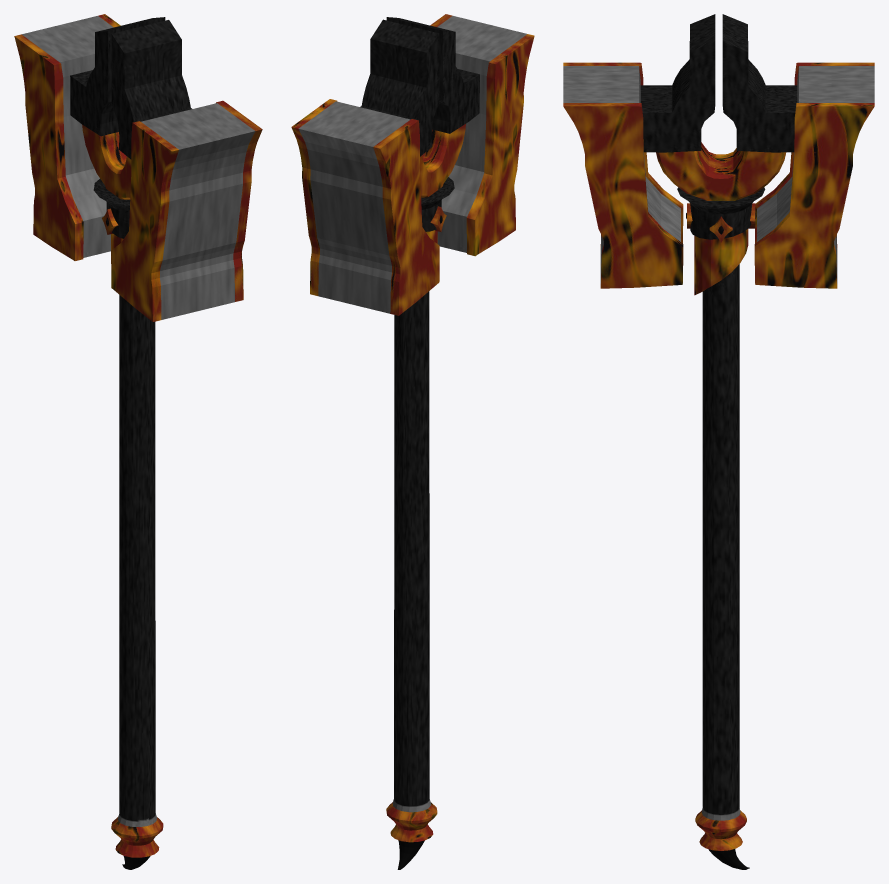
The model's file is MarteloSoisMap.fbx.
3 renders of one model, left to right at view 1: azimuth 30°, elevation 25°; view 2: azimuth 150°, elevation 25°; view 3: azimuth 270°, elevation 25°, orthographic. The views are drawn at different scales.
Parts seen in each view (by area): view 1: MarteloSois; view 2: MarteloSois; view 3: MarteloSois.
Part boxes in pixels (<box>): MarteloSois: <box>14,14,262,869</box>; MarteloSois: <box>291,14,534,869</box>; MarteloSois: <box>563,14,874,869</box>.
Bounding box in the file's own units: 18.28 × 55.02 × 164.
